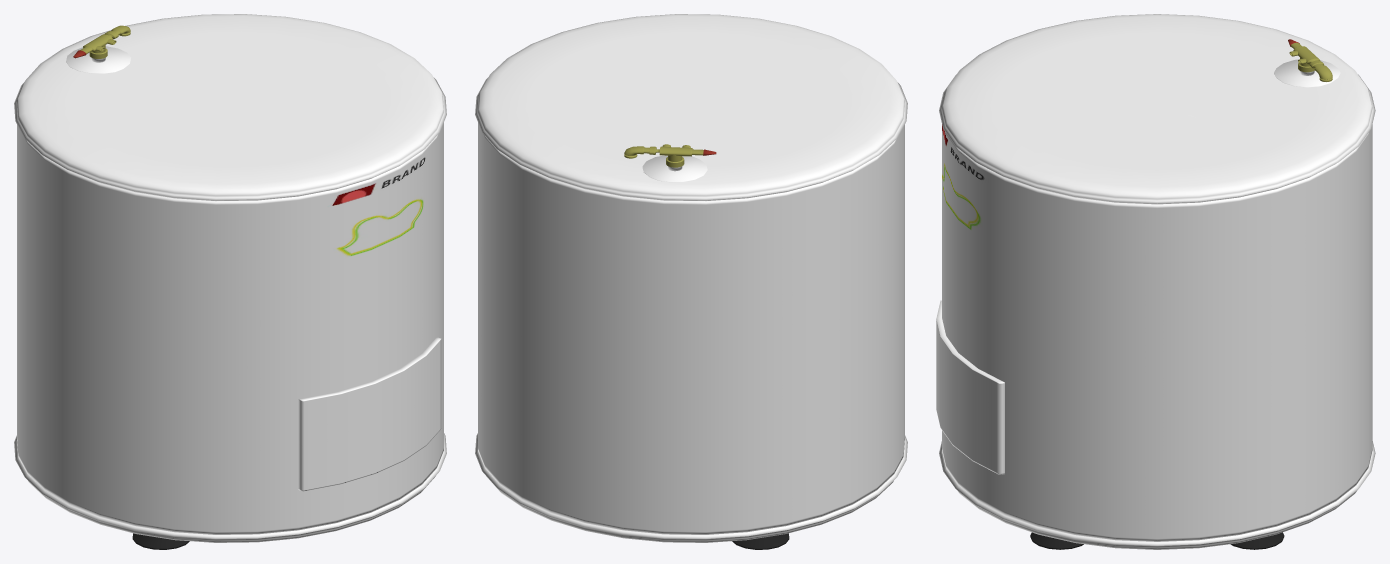
File: sh-scopia-electric-water-heater-big.glb
The picture shows the model from 3 angles, left to right: view 1: azimuth 30°, elevation 25°; view 2: azimuth 150°, elevation 25°; view 3: azimuth 270°, elevation 25°; orthographic projection.
Parts seen in each view (by area): view 1: electric-heater_Cylinder, electric-heater.001_Cylinder.003, Cylinder_Cylinder.002, Cylinder.001_Cylinder.004; view 2: electric-heater_Cylinder, electric-heater.001_Cylinder.003, Cylinder_Cylinder.002, Cylinder.001_Cylinder.004; view 3: electric-heater_Cylinder, electric-heater.001_Cylinder.003, Cylinder.001_Cylinder.004, Cylinder_Cylinder.002.
Boxes of the visible parts, <box> form: electric-heater_Cylinder: <box>14,14,446,542</box>; electric-heater.001_Cylinder.003: <box>66,46,441,491</box>; Cylinder_Cylinder.002: <box>73,25,130,62</box>; Cylinder.001_Cylinder.004: <box>132,533,189,549</box>; electric-heater_Cylinder: <box>475,14,907,542</box>; electric-heater.001_Cylinder.003: <box>642,155,707,182</box>; Cylinder_Cylinder.002: <box>624,144,716,171</box>; Cylinder.001_Cylinder.004: <box>732,533,789,549</box>; electric-heater_Cylinder: <box>939,14,1375,549</box>; electric-heater.001_Cylinder.003: <box>936,59,1340,474</box>; Cylinder.001_Cylinder.004: <box>1030,532,1284,549</box>; Cylinder_Cylinder.002: <box>1288,39,1332,81</box>.
Bounding box in the file's own units: 1 × 1 × 1.
8 materials, 1 textured.
